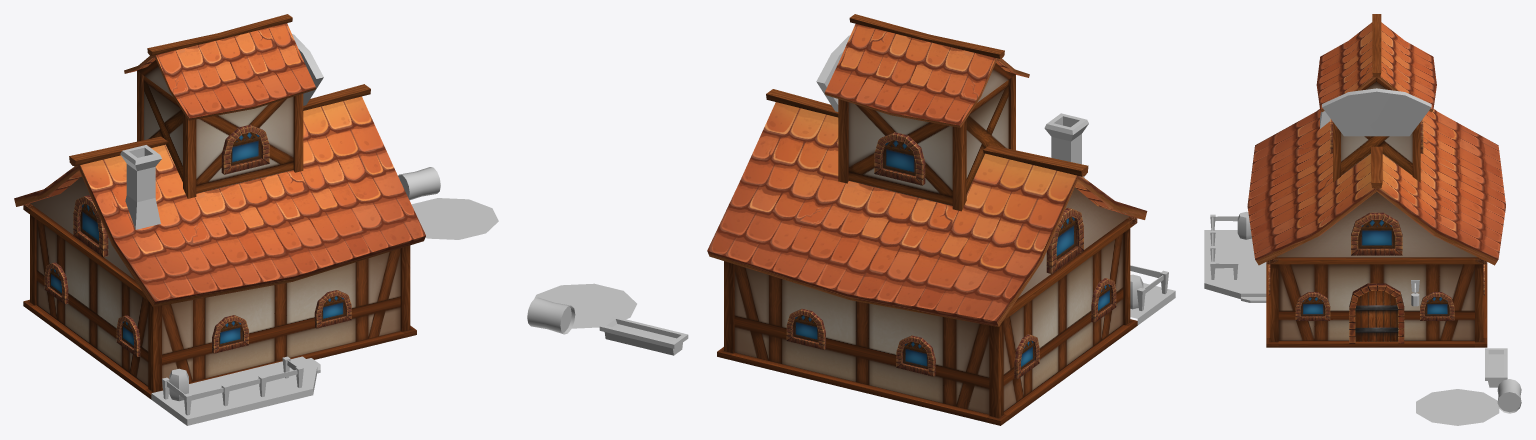
Rendered from Fancy_Tavern.fbx.
3 renders of one model, left to right at view 1: azimuth 30°, elevation 25°; view 2: azimuth 150°, elevation 25°; view 3: azimuth 270°, elevation 25°, orthographic. The views are drawn at different scales.
Visible parts, largest first — view 1: Fancy_tavern, Decor; view 2: Fancy_tavern, Decor; view 3: Fancy_tavern, Decor.
Boxes of the visible parts, box(x1,y1,x2,y2) form: Fancy_tavern: box(14, 14, 425, 399); Decor: box(120, 34, 498, 425); Fancy_tavern: box(707, 14, 1147, 425); Decor: box(527, 35, 1175, 355); Fancy_tavern: box(1247, 14, 1505, 347); Decor: box(1204, 61, 1521, 425).
Bounding box in the file's own units: 400 × 235 × 273.
